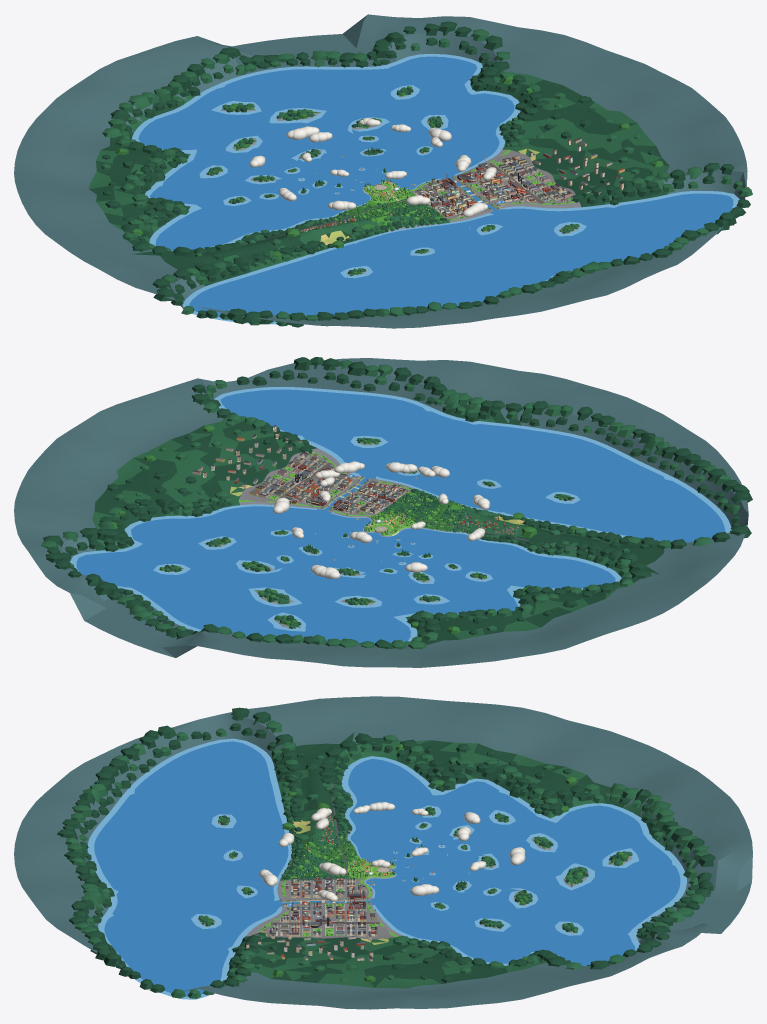
Rendered from environment.glb.
3 views of the same model, one above another, from view 1: azimuth 30°, elevation 25°; view 2: azimuth 150°, elevation 25°; view 3: azimuth 270°, elevation 25° (orthographic).
Visible parts, largest first — view 1: lake, ground, far_shores, city, park_far; view 2: lake, ground, far_shores, city, park_far; view 3: lake, ground, far_shores, city, park_far.
Part boxes in pixels (x1,y1,x2,y2): lake: (132,53,739,324); ground: (14,14,747,328); far_shores: (101,21,752,327); city: (408,138,624,220); park_far: (300,184,441,231); lake: (70,386,731,643); ground: (14,358,748,667); far_shores: (41,357,752,649); city: (192,425,411,517); park_far: (356,492,518,534); lake: (87,738,686,999); ground: (14,696,752,1009); far_shores: (57,707,715,998); city: (246,874,379,961); park_far: (291,815,375,885).
Bounding box in the file's own units: 3798 × 264 × 3800.
